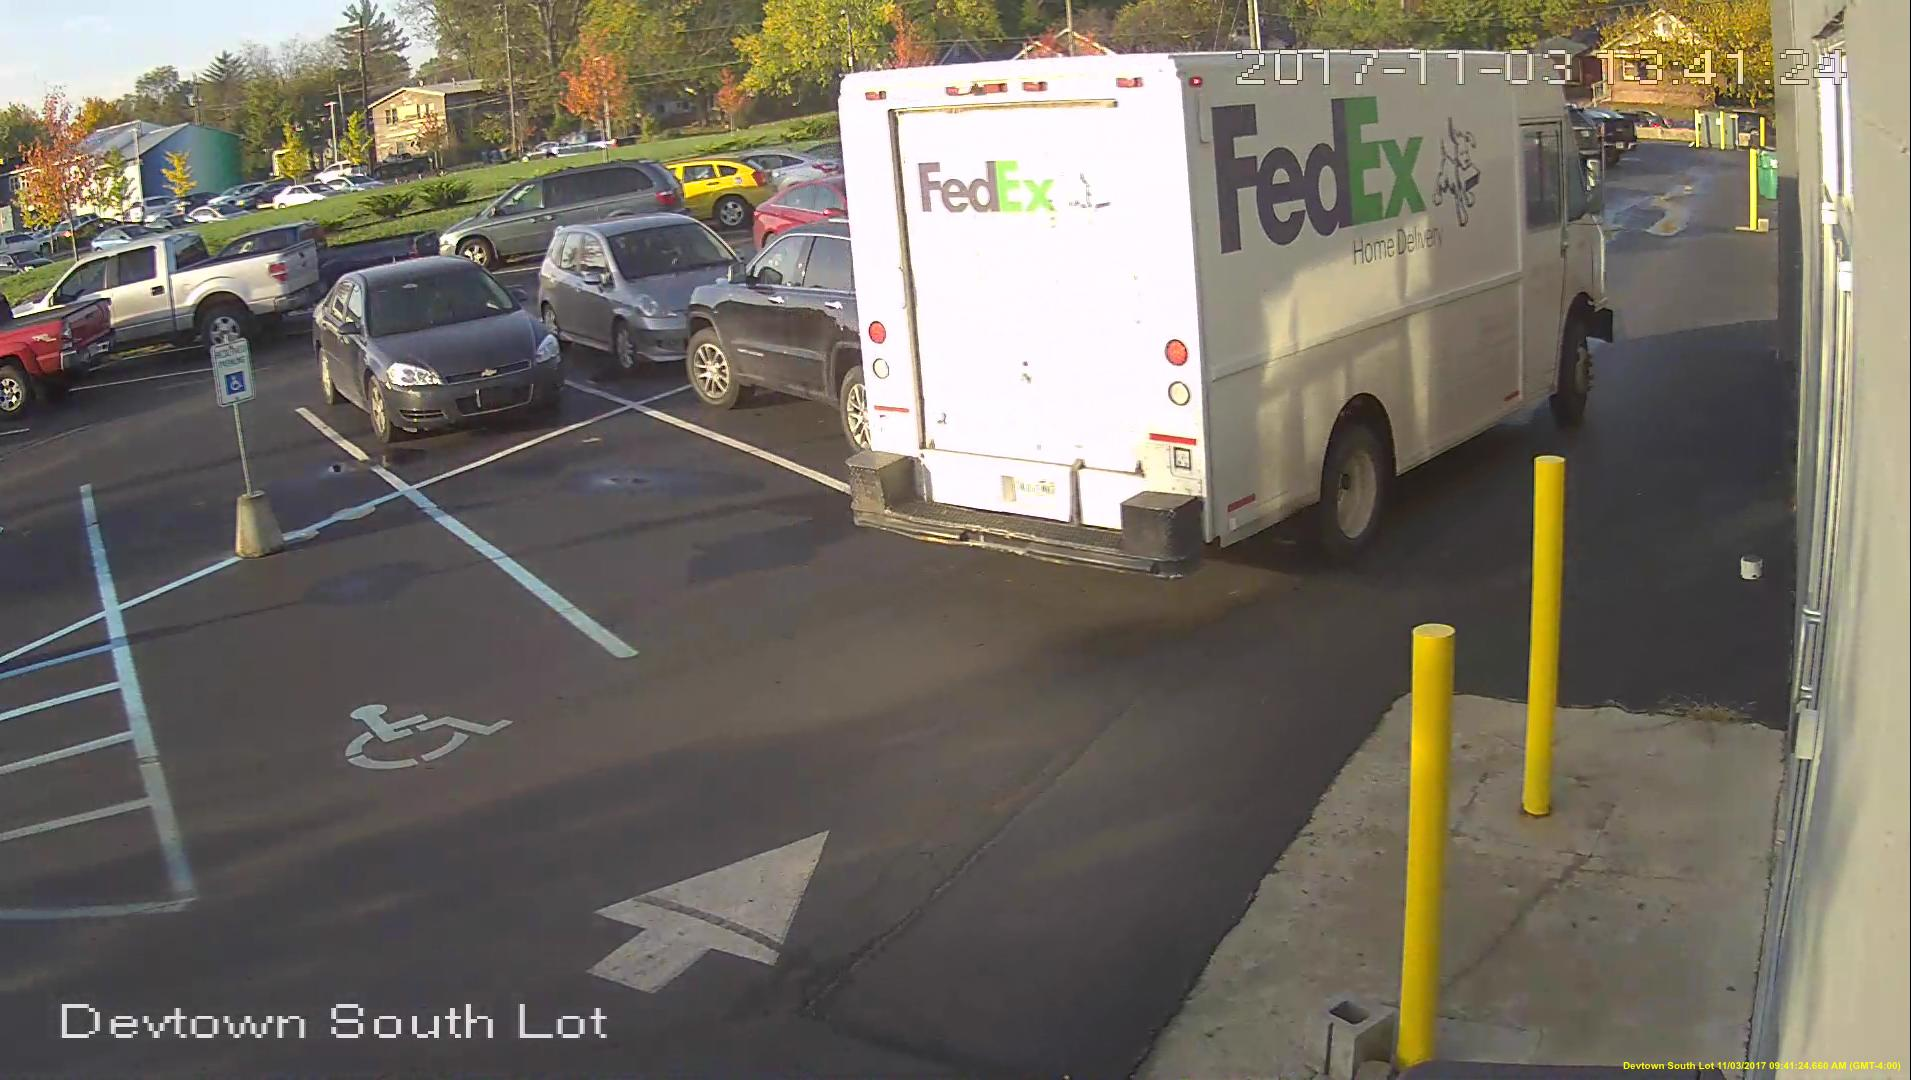fedex_truck: (832, 45, 1618, 583)
